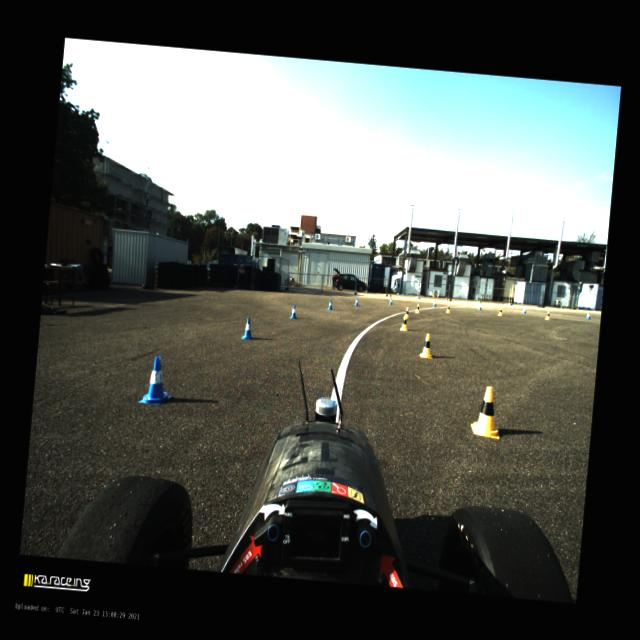blue_cone: (138, 354, 175, 406), (240, 316, 255, 340), (289, 304, 298, 318), (327, 299, 333, 310), (354, 296, 359, 306), (388, 296, 393, 304), (586, 312, 590, 320), (522, 306, 526, 314), (478, 302, 482, 310), (432, 299, 436, 307)
yellow_cone: (469, 385, 504, 439), (418, 332, 434, 358), (399, 315, 408, 331), (402, 306, 410, 318), (544, 310, 550, 320), (414, 303, 420, 313), (498, 305, 502, 315), (446, 304, 450, 312)
